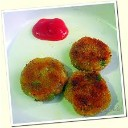cutlet: (68, 71, 111, 115), (20, 60, 66, 100), (73, 36, 113, 69)
